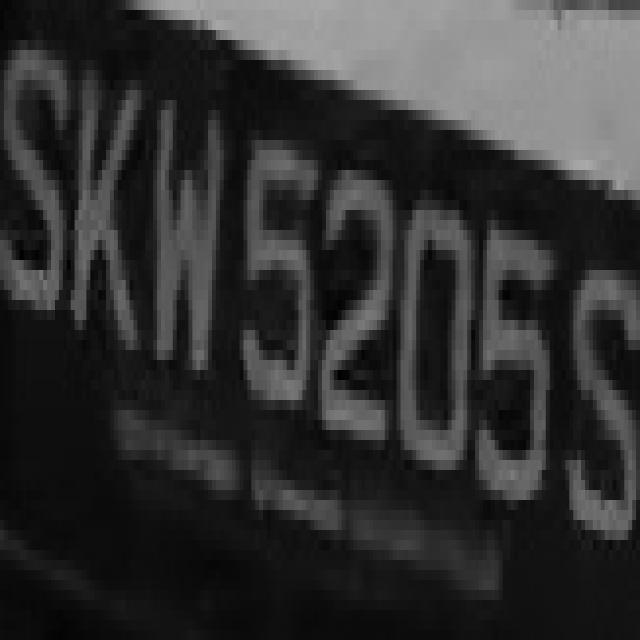0: (397, 160, 471, 520)
2: (318, 140, 401, 500)
5: (471, 170, 558, 540), (236, 110, 318, 440)
K: (71, 30, 137, 400)
S: (573, 210, 636, 600), (4, 30, 55, 350)
W: (145, 60, 232, 440)
